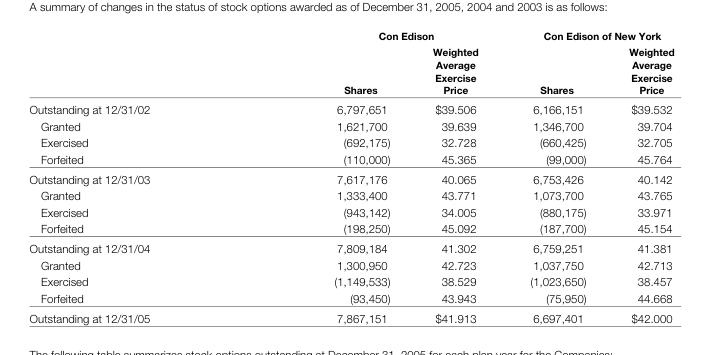table: (28, 29, 673, 324)
table column: (28, 29, 241, 324), (241, 29, 410, 324), (503, 29, 606, 324), (410, 29, 503, 324), (606, 29, 673, 324)
table column header: (28, 29, 673, 98)
table row: (28, 43, 673, 98), (28, 98, 673, 117), (28, 237, 673, 256), (28, 150, 673, 168), (28, 168, 673, 186), (28, 219, 673, 237), (28, 289, 673, 307), (28, 133, 673, 150), (28, 186, 673, 203), (28, 272, 673, 289), (28, 307, 673, 324), (28, 117, 673, 133), (28, 203, 673, 219), (28, 256, 673, 272), (28, 29, 673, 43)
table spanning cell: (241, 29, 503, 43), (503, 29, 673, 43)
